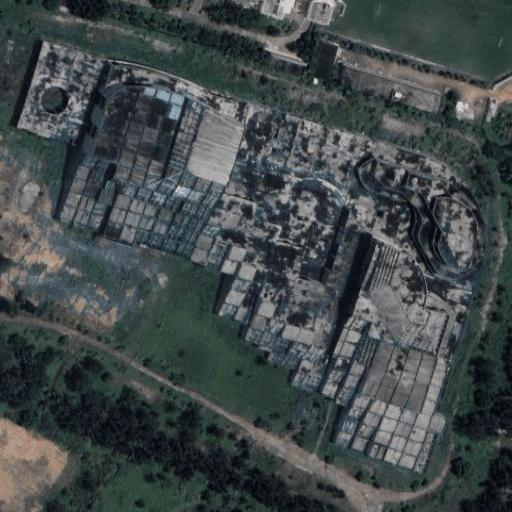building: (88, 83, 243, 203), (360, 156, 487, 283), (352, 241, 448, 357), (10, 38, 100, 147), (337, 65, 444, 115), (204, 241, 261, 325), (239, 294, 282, 348), (184, 229, 216, 268), (276, 321, 315, 349), (313, 42, 336, 81), (448, 99, 477, 125), (269, 56, 304, 74)
